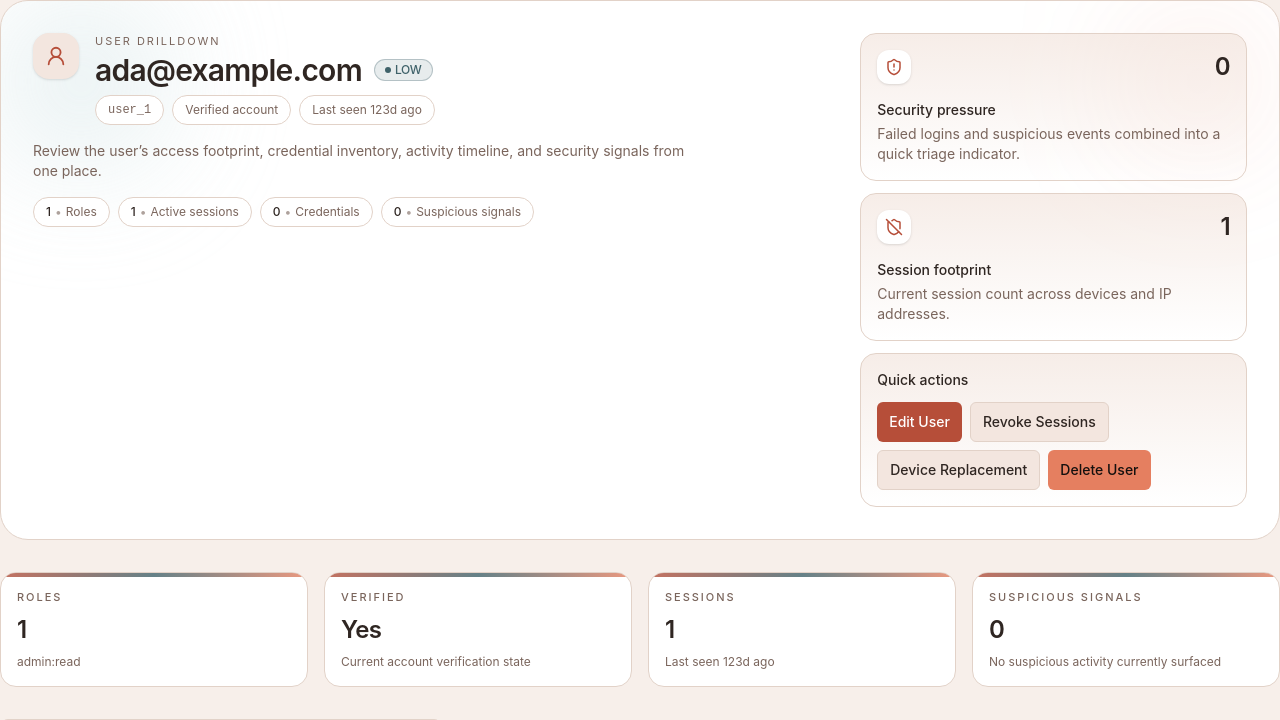
Test: UserDetail › device replacement proofing › does not submit until an evidence reference is given
The width and height of the screenshot is (1280, 720).
Click the button "Device Replacement" at (959, 470), box [877,450,1040,490]
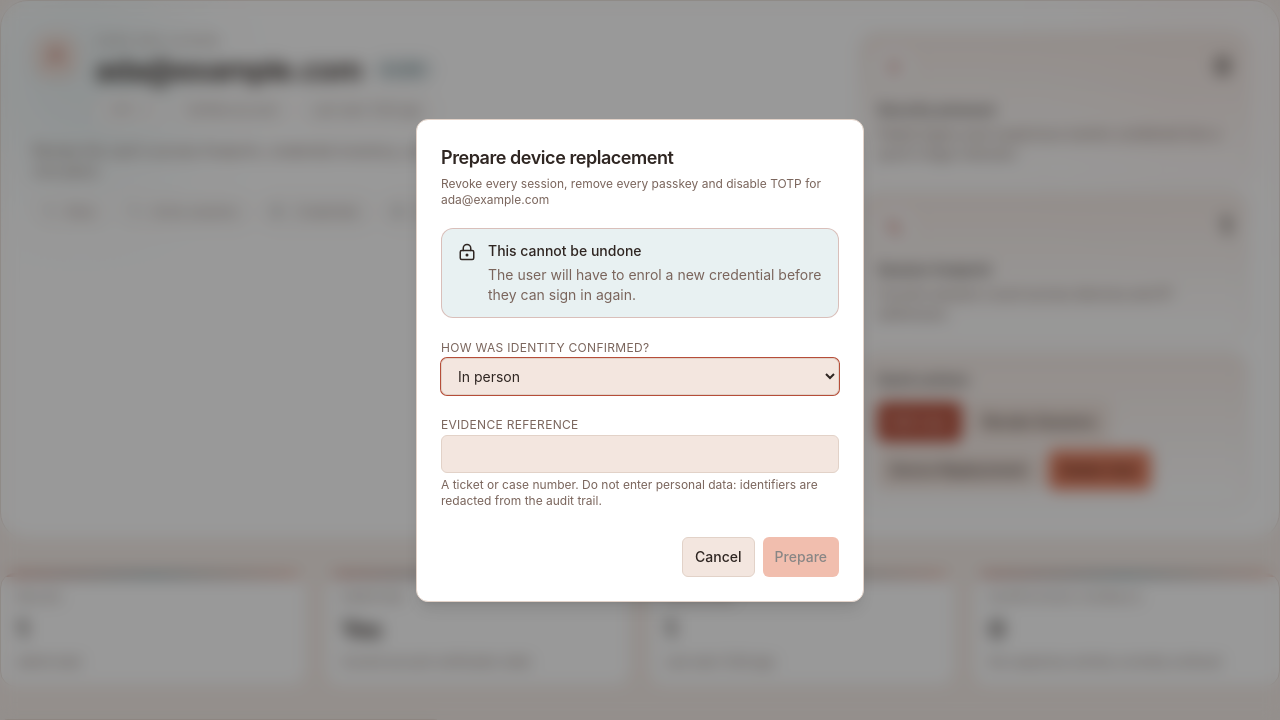
Now the button "Prepare" is disabled, box [762,536,839,576]
